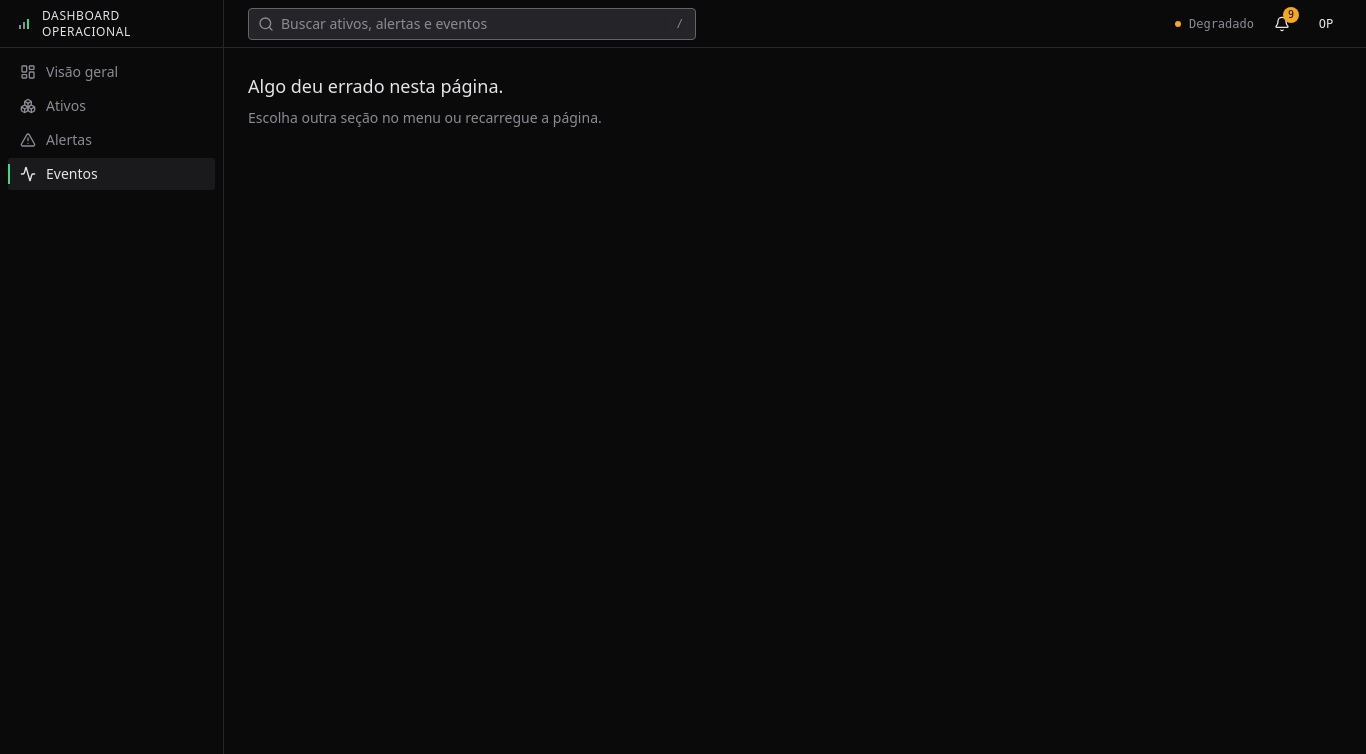
Test case: erro inesperado numa página › fica dentro do shell: a navegação continua e trocar de rota limpa o erro
Expected: the text "Algo deu errado nesta página." is shown, [248, 72, 503, 100]
Expected: the navigation bar named "Principal" is shown, [8, 62, 215, 190]
Click the link "Ativos" at (53, 106), box [20, 96, 86, 115]
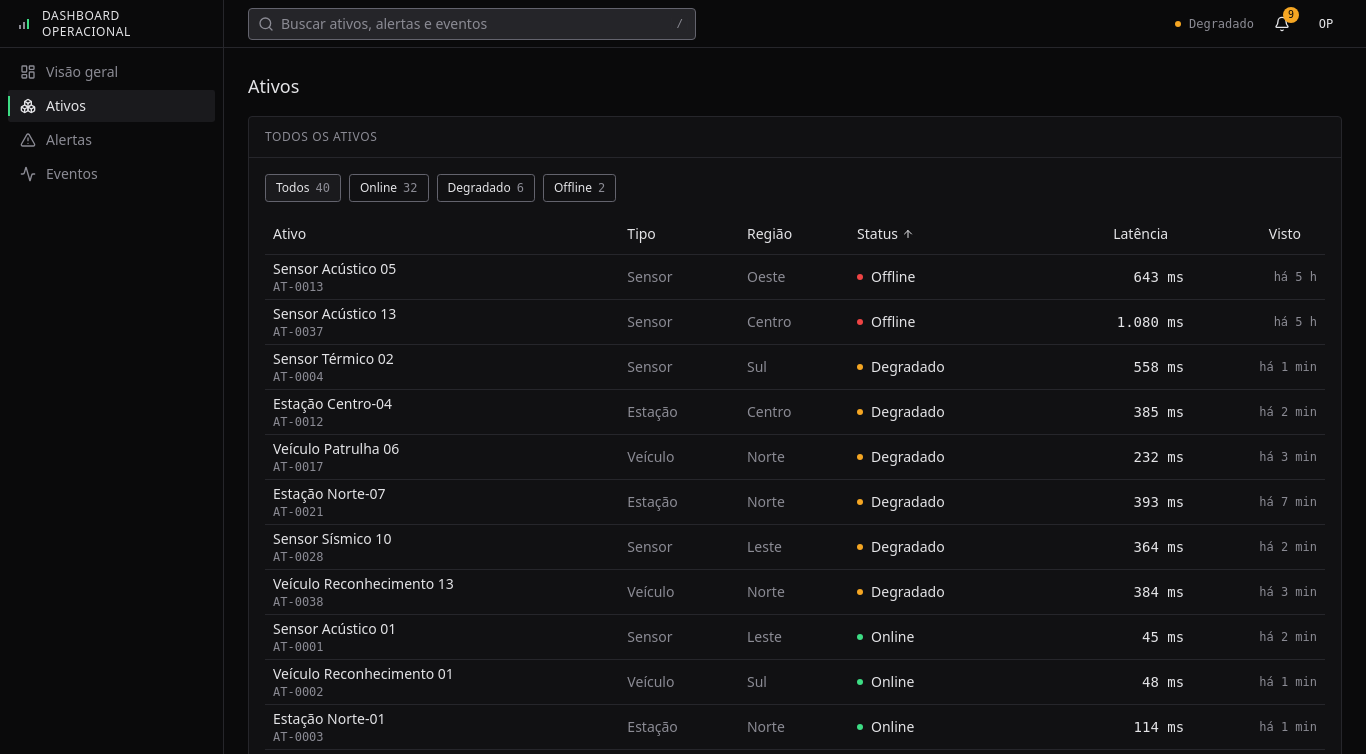
Now the heading "Ativos" is shown, box [248, 72, 299, 100]
Now the text "Algo deu errado nesta página." is gone
